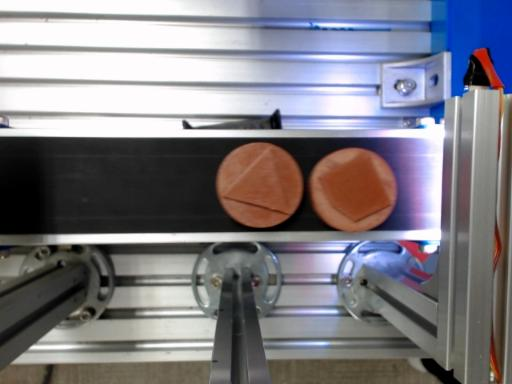Brown_Waper: (218, 142, 303, 228), (310, 148, 397, 231)
